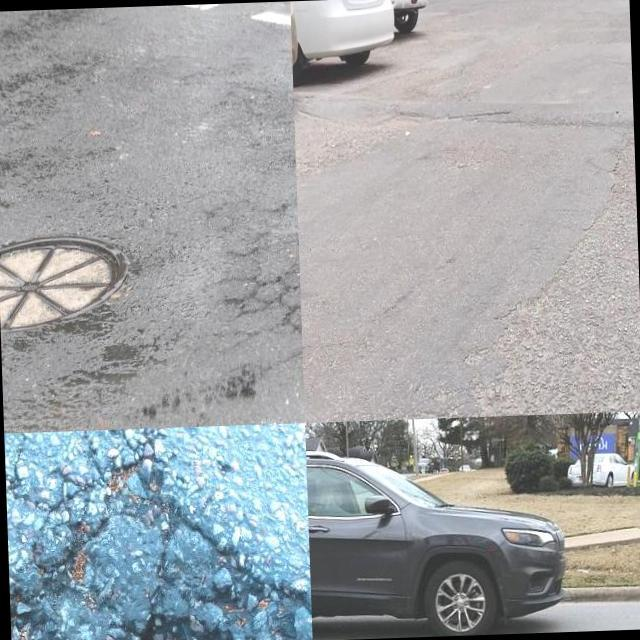Pothole: (10, 460, 312, 640)
